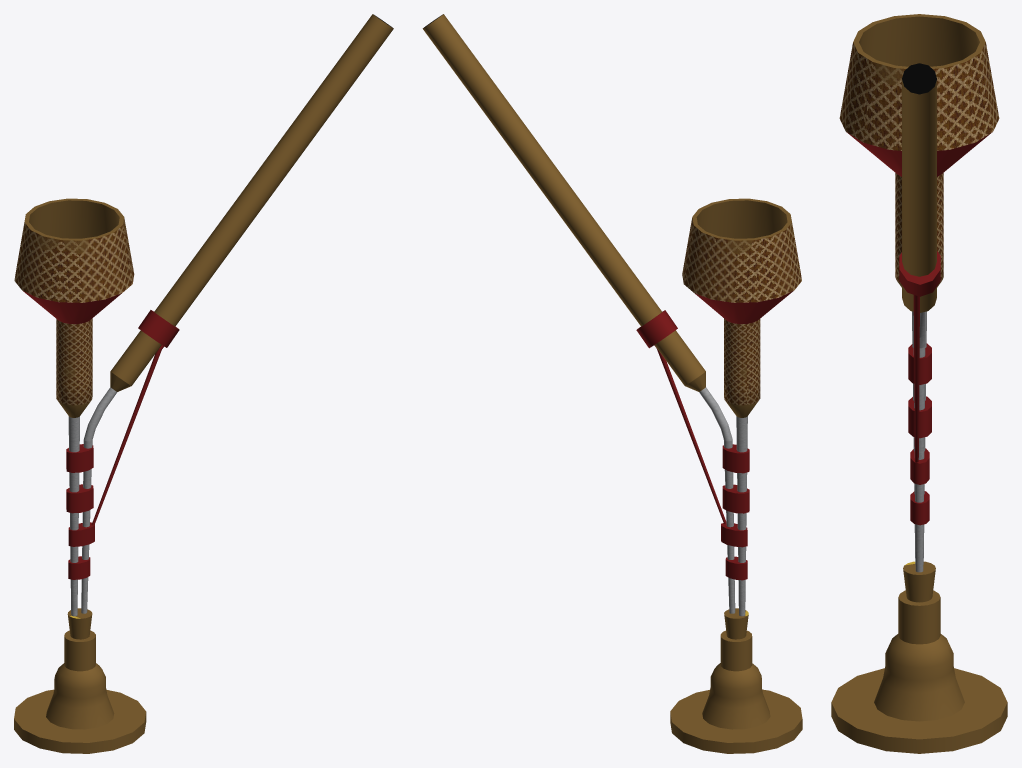
Rendered from Hukkah.glb.
The picture shows the model from 3 angles, left to right: view 1: azimuth 30°, elevation 25°; view 2: azimuth 150°, elevation 25°; view 3: azimuth 270°, elevation 25°; orthographic projection. The views are drawn at different scales.
Parts seen in each view (by area): view 1: pCylinder66; view 2: pCylinder66; view 3: pCylinder66.
Part boxes in pixels (bbox=[...]): pCylinder66: bbox=[14, 14, 393, 753]; pCylinder66: bbox=[422, 14, 802, 753]; pCylinder66: bbox=[831, 14, 1007, 753].
Size of the model in its own units: 0.552 by 0.9106 by 0.1724.
Materials: 1 (1 with a texture image).
